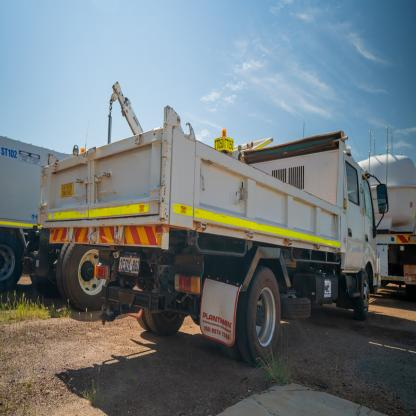dump_truck: (38, 92, 388, 373)
